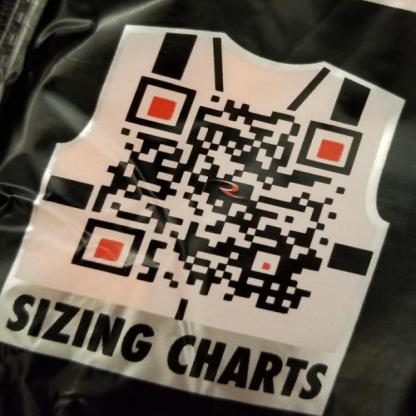qr: (72, 70, 364, 323)
